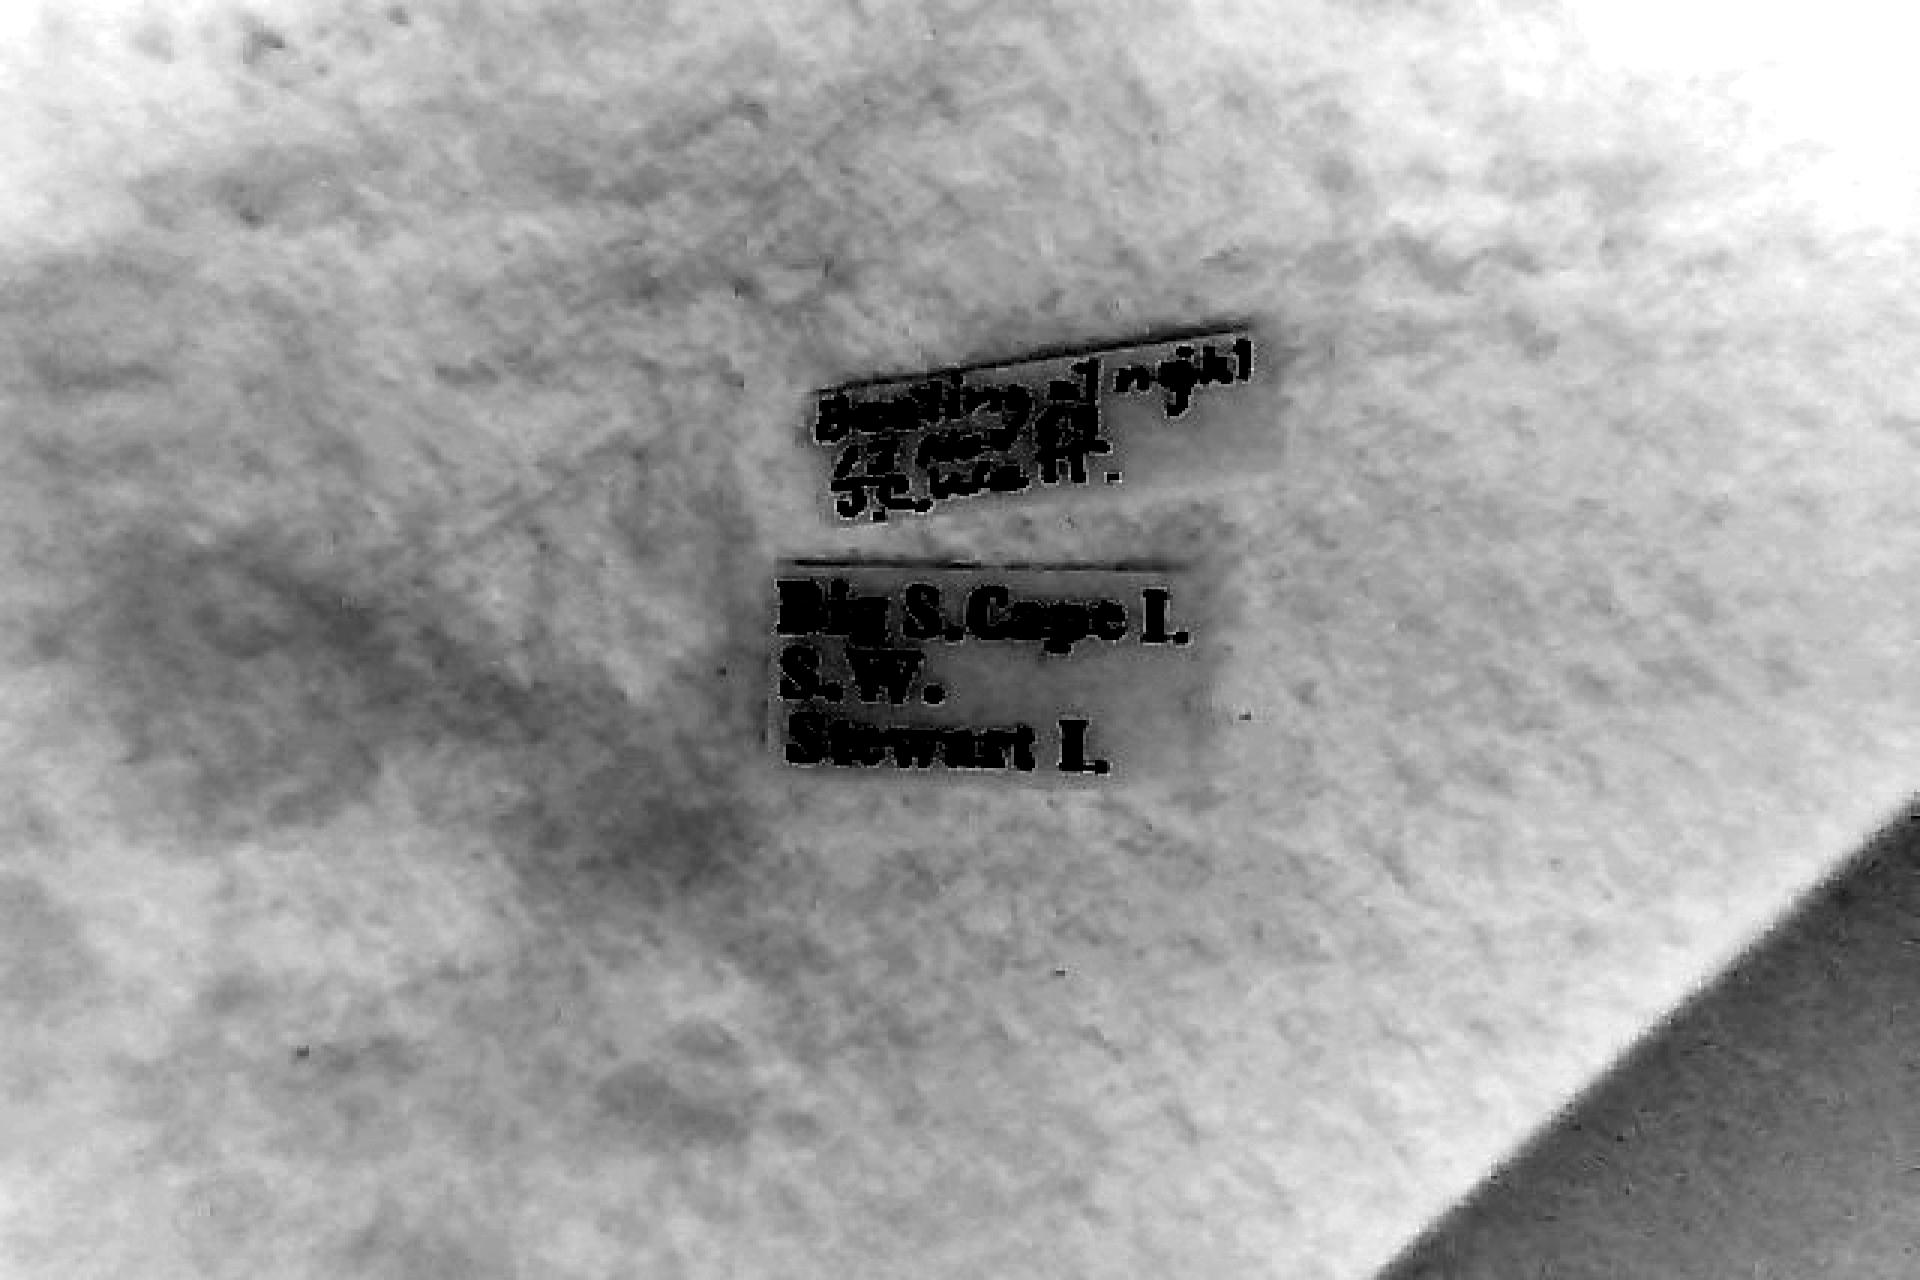hand_label: (810, 333, 1279, 523)
typed_label: (769, 569, 1200, 786)
